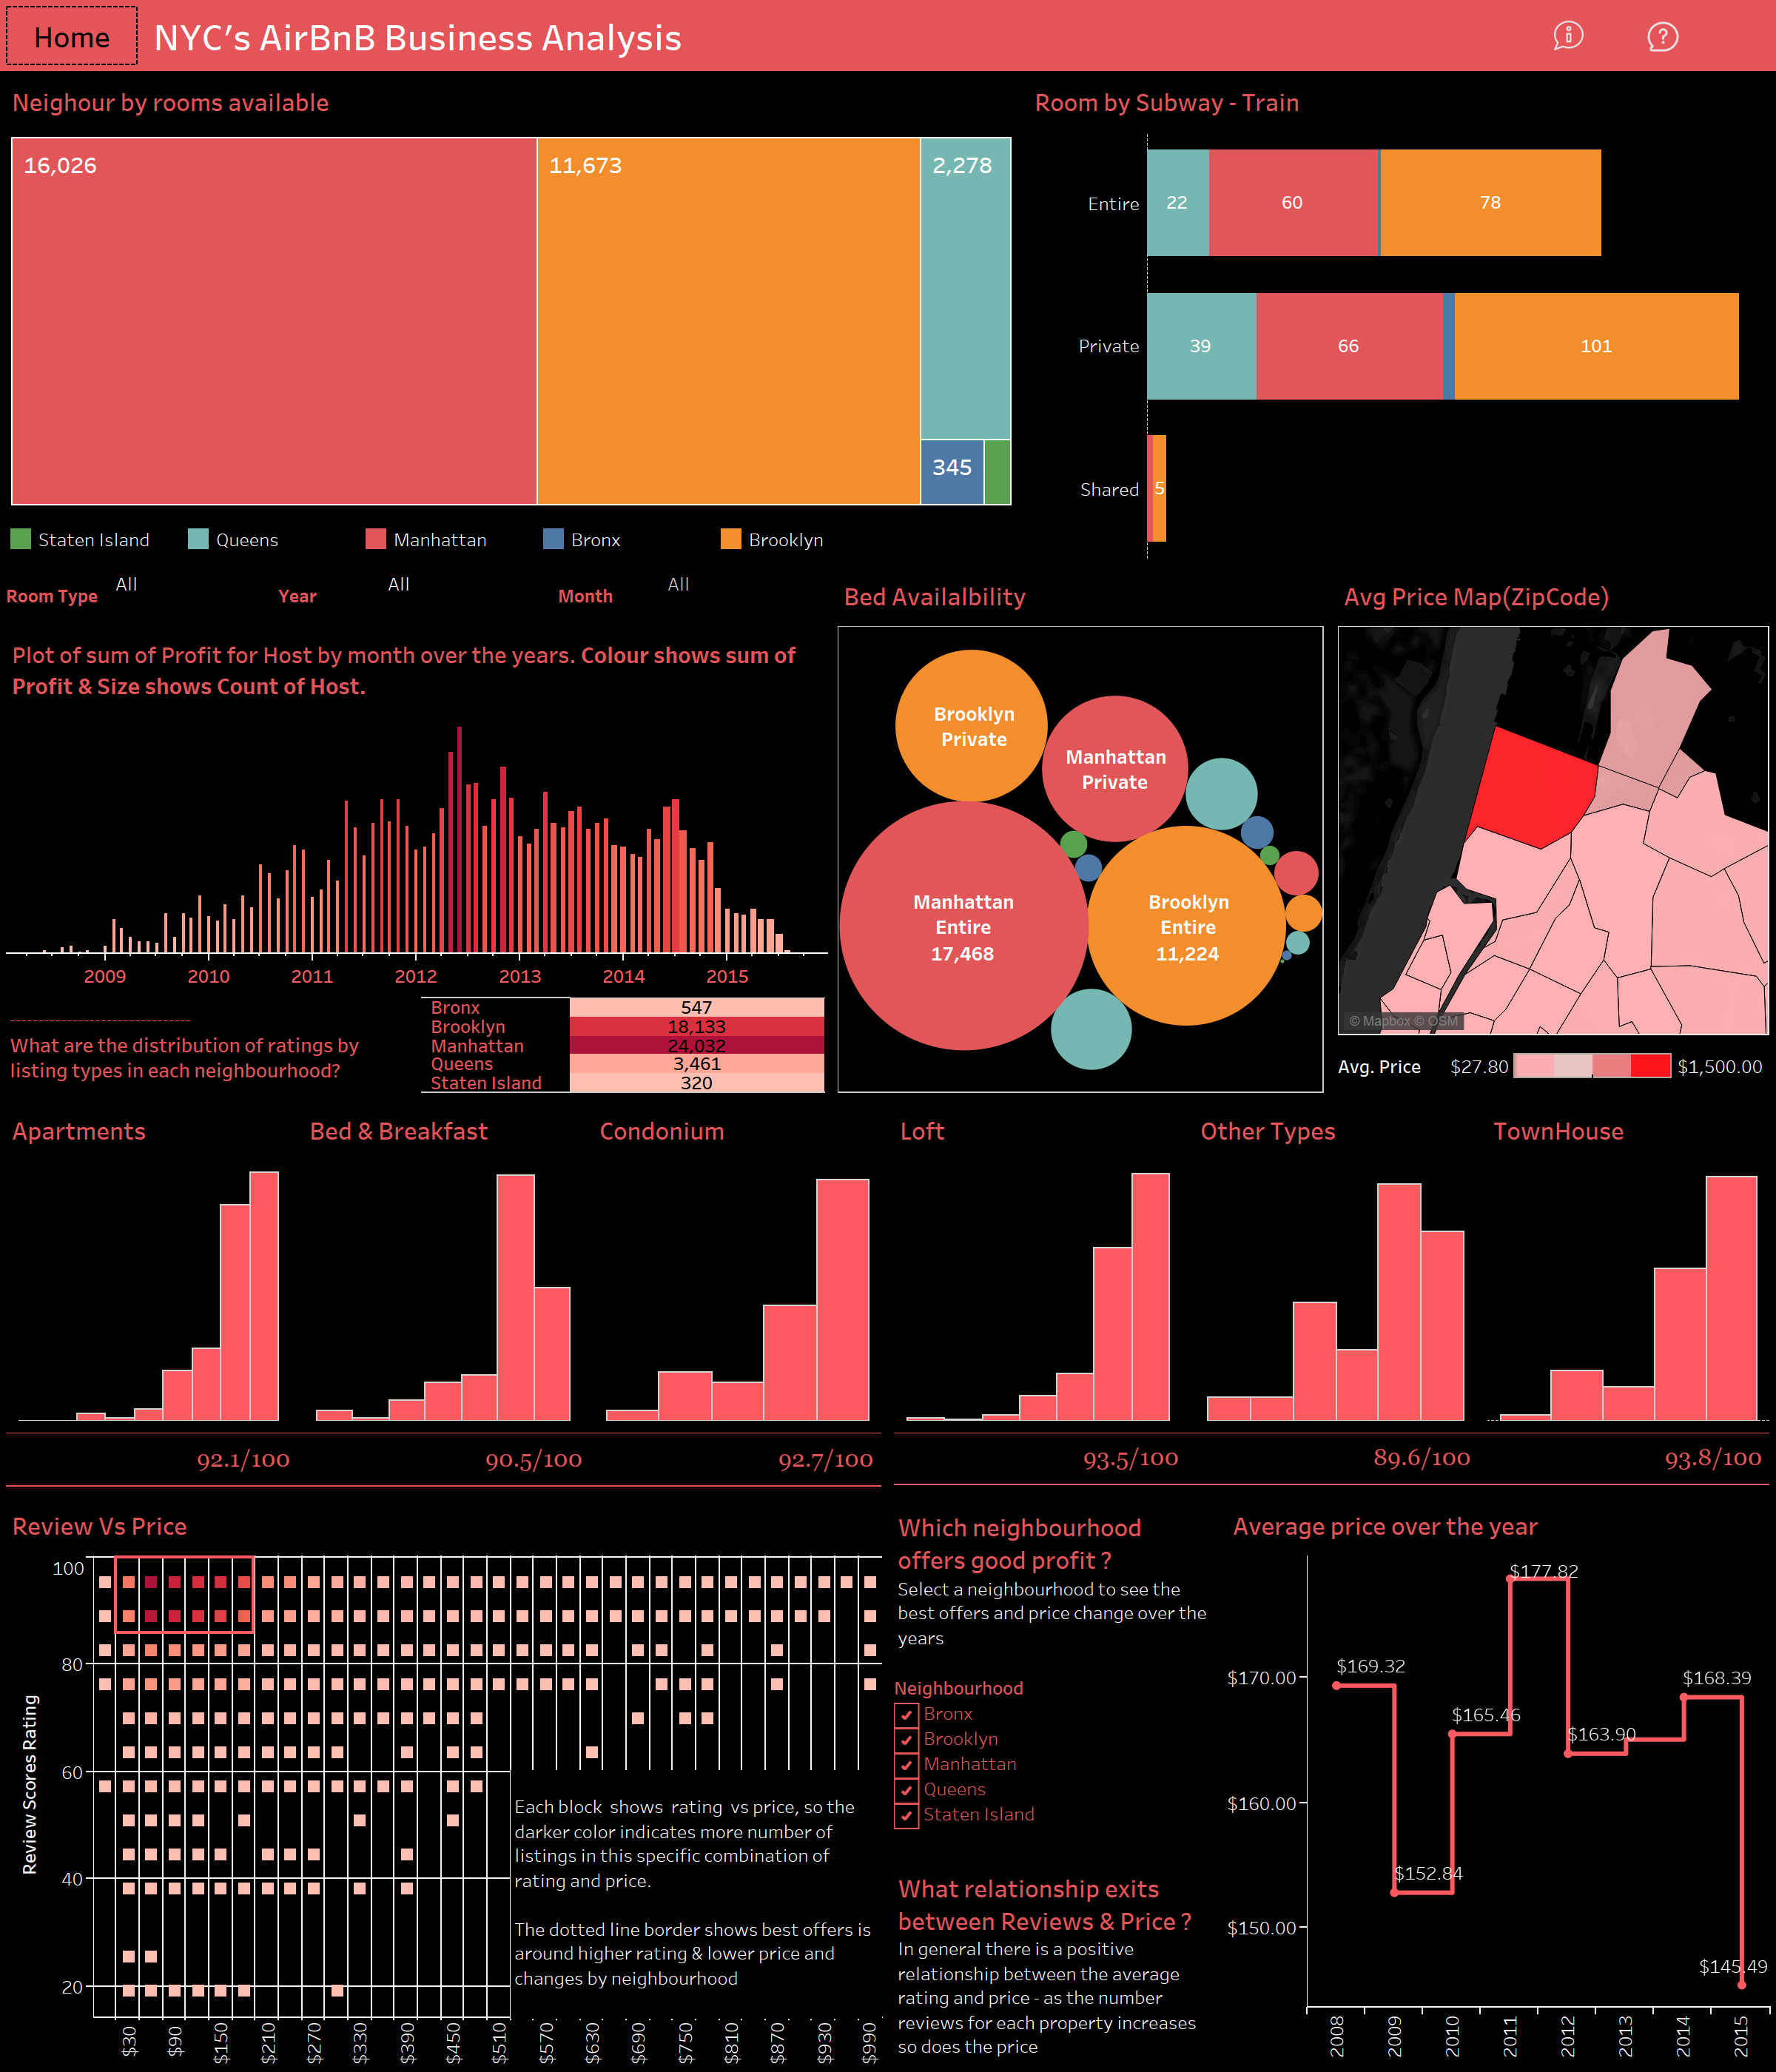

What the dashboard file says about the page in this screenshot:
{"tool":"tableau","page":{"name":"Business","canvas":[1200,1400],"ordinal":1},"visuals":[{"type":"dashboard-object","box":[0,0,97,48]},{"type":"title","box":[97,0,934,48]},{"type":"worksheet","title":"info (2)","mark":"Shape","box":[1031,0,58,48]},{"type":"worksheet","title":"help (2)","mark":"Shape","box":[1089,0,68,48]},{"type":"blank","box":[1157,0,43,48]},{"type":"worksheet","title":"Neighour by rooms available","mark":"Automatic","box":[0,48,691.2,302.4]},{"type":"worksheet","title":"Room by Subway - Train ","mark":"Automatic","rows":["Room Type"],"cols":["Calculation_796574251862720521"],"box":[691.2,48,508.8,334]},{"type":"legend","title":"Room by Subway - Train ","param":"[federated.1h5rg7o0l3s0qj1ahh58z10ekste].[none:Neighbourhood:nk]","box":[0,350.4,691.2,28]},{"type":"filter","title":"Bed Availalbility","param":"[federated.1h5rg7o0l3s0qj1ahh58z10ekste].[none:Room Type:nk]","box":[0,382,184,40]},{"type":"filter","title":"avg by year","param":"[federated.1h5rg7o0l3s0qj1ahh58z10ekste].[yr:Host Since:ok]","box":[184,382,189.2,40]},{"type":"filter","title":"Profit by host","param":"[federated.1h5rg7o0l3s0qj1ahh58z10ekste].[mn:Host Since:ok]","box":[373.2,382,189.3,40]},{"type":"worksheet","title":"Bed Availalbility","mark":"Circle","box":[562.5,382,337.5,361.3]},{"type":"worksheet","title":"Avg Price Map(ZipCode)","mark":"Multipolygon","box":[900,382,300,322.3]},{"type":"worksheet","title":"Profit by host","mark":"Bar","rows":["Calculation_17451516273426433"],"cols":["Host Since"],"box":[0,422,562.5,248.2]},{"type":"text","box":[0,670.2,281.3,73.2]},{"type":"worksheet","title":"Bedrooms","mark":"Square","rows":["Neighbourhood"],"box":[281.3,670.2,281.2,73.2]},{"type":"legend","title":"Avg Price Map(ZipCode)","param":"[federated.1h5rg7o0l3s0qj1ahh58z10ekste].[avg:Price:qk]","box":[900,704.4,300,39]},{"type":"worksheet","title":"r1","mark":"Automatic","rows":["Review Scores Rating"],"cols":["Review Scores Rating (bin)"],"box":[0,743.3,200.6,221.1]},{"type":"worksheet","title":"r2","mark":"Automatic","rows":["Review Scores Rating"],"cols":["Review Scores Rating (bin)"],"box":[200.6,743.3,196.6,221.1]},{"type":"worksheet","title":"r3","mark":"Automatic","rows":["Review Scores Rating"],"cols":["Review Scores Rating (bin)"],"box":[397.3,743.3,202.7,221.1]},{"type":"worksheet","title":"r4","mark":"Automatic","rows":["Review Scores Rating"],"cols":["Review Scores Rating (bin)"],"box":[600,743.3,202.7,221.1]},{"type":"worksheet","title":"r5","mark":"Automatic","rows":["Review Scores Rating"],"cols":["Review Scores Rating (bin)"],"box":[802.7,743.3,198.6,221.1]},{"type":"worksheet","title":"r6","mark":"Automatic","rows":["Review Scores Rating"],"cols":["Review Scores Rating (bin)"],"box":[1001.3,743.3,198.7,221.1]},{"type":"worksheet","title":"pr1","mark":"Automatic","cols":["Property Type"],"box":[0,964.4,600,45.7]},{"type":"worksheet","title":"pr2","mark":"Automatic","cols":["Property Type"],"box":[600,964.4,600,45.7]},{"type":"worksheet","title":"Price vs Rating","mark":"Square","rows":["Review Scores Rating (bin)"],"cols":["Price (bin)"],"box":[0,1010.1,600,389.9]},{"type":"text","box":[600,1010.1,225,116.7]},{"type":"worksheet","title":"avg by year","mark":"Automatic","rows":["Price"],"cols":["Host Since","Host Since"],"box":[825,1010.1,375,389.9]},{"type":"filter","title":"Price vs Rating","param":"[federated.1h5rg7o0l3s0qj1ahh58z10ekste].[none:Neighbourhood:nk]","box":[600,1126.8,225,131.3]},{"type":"text","box":[345,1196,251,168]},{"type":"text","box":[600,1258.2,225,141.8]}]}

Visuals, with their boxes in screenshot pixels (x1, y1, x2, y2), scaled from the page's 1200x1400 canvas onto the 1776x2072 screenshot:
dashboard-object: (x1=0, y1=0, x2=144, y2=71)
title: (x1=144, y1=0, x2=1526, y2=71)
"info (2)" worksheet (Shape marks): (x1=1526, y1=0, x2=1612, y2=71)
"help (2)" worksheet (Shape marks): (x1=1612, y1=0, x2=1712, y2=71)
blank: (x1=1712, y1=0, x2=1775, y2=71)
"Neighour by rooms available" worksheet: (x1=0, y1=71, x2=1023, y2=519)
"Room by Subway - Train " worksheet: (x1=1023, y1=71, x2=1775, y2=565)
"Room by Subway - Train " legend: (x1=0, y1=519, x2=1023, y2=560)
"Bed Availalbility" filter: (x1=0, y1=565, x2=272, y2=625)
"avg by year" filter: (x1=272, y1=565, x2=552, y2=625)
"Profit by host" filter: (x1=552, y1=565, x2=832, y2=625)
"Bed Availalbility" worksheet (Circle marks): (x1=832, y1=565, x2=1332, y2=1100)
"Avg Price Map(ZipCode)" worksheet (Multipolygon marks): (x1=1332, y1=565, x2=1775, y2=1043)
"Profit by host" worksheet (Bar marks): (x1=0, y1=625, x2=832, y2=992)
text: (x1=0, y1=992, x2=417, y2=1100)
"Bedrooms" worksheet (Square marks): (x1=417, y1=992, x2=832, y2=1100)
"Avg Price Map(ZipCode)" legend: (x1=1332, y1=1043, x2=1775, y2=1100)
"r1" worksheet: (x1=0, y1=1100, x2=297, y2=1427)
"r2" worksheet: (x1=297, y1=1100, x2=588, y2=1427)
"r3" worksheet: (x1=588, y1=1100, x2=888, y2=1427)
"r4" worksheet: (x1=888, y1=1100, x2=1188, y2=1427)
"r5" worksheet: (x1=1188, y1=1100, x2=1482, y2=1427)
"r6" worksheet: (x1=1482, y1=1100, x2=1775, y2=1427)
"pr1" worksheet: (x1=0, y1=1427, x2=888, y2=1495)
"pr2" worksheet: (x1=888, y1=1427, x2=1775, y2=1495)
"Price vs Rating" worksheet (Square marks): (x1=0, y1=1495, x2=888, y2=2071)
text: (x1=888, y1=1495, x2=1221, y2=1668)
"avg by year" worksheet: (x1=1221, y1=1495, x2=1775, y2=2071)
"Price vs Rating" filter: (x1=888, y1=1668, x2=1221, y2=1862)
text: (x1=511, y1=1770, x2=882, y2=2019)
text: (x1=888, y1=1862, x2=1221, y2=2071)
